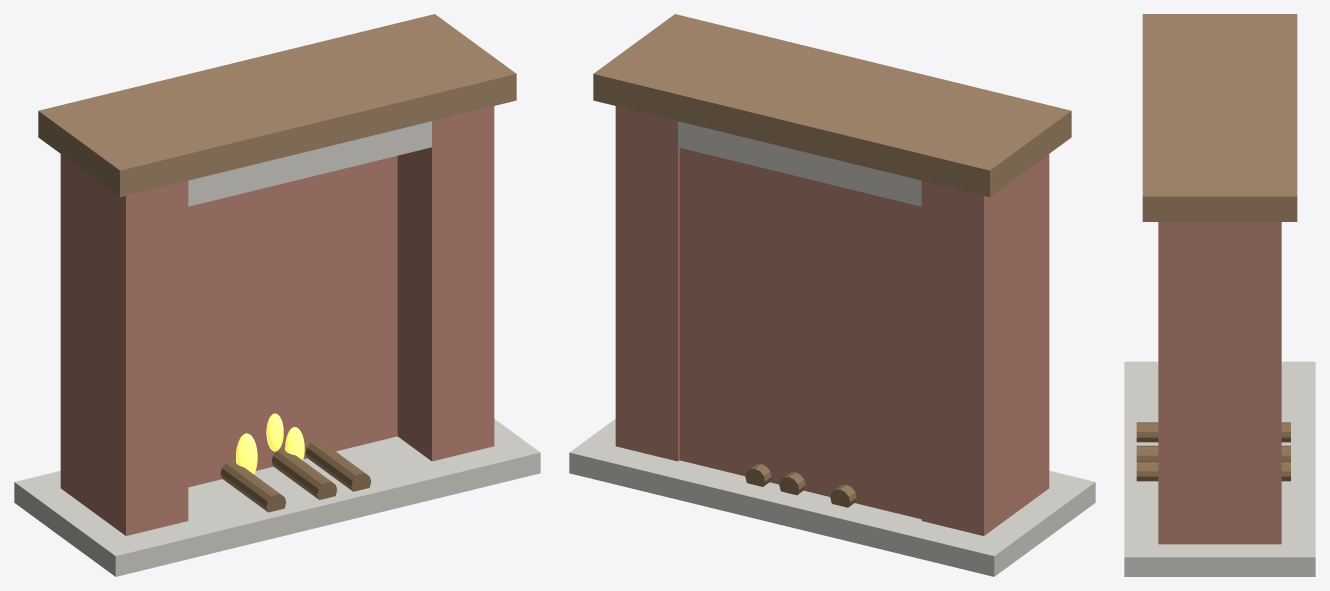
Rendered from fireplace.glb.
3 renders of one model, left to right at view 1: azimuth 30°, elevation 25°; view 2: azimuth 150°, elevation 25°; view 3: azimuth 270°, elevation 25°, orthographic. The views are drawn at different scales.
Parts seen in each view (by area): view 1: Fireplace_BackWall, Fireplace_Mantel, Fireplace_LeftColumn, Fireplace_RightColumn, Fireplace_HearthBase, Fireplace_FireboxTop, Fireplace_Log_2, Fireplace_Log_0, Fireplace_Log_1, Fireplace_Flame_0; view 2: Fireplace_BackWall, Fireplace_Mantel, Fireplace_LeftColumn, Fireplace_RightColumn, Fireplace_HearthBase, Fireplace_FireboxTop; view 3: Fireplace_RightColumn, Fireplace_Mantel, Fireplace_HearthBase, Fireplace_BackWall, Fireplace_Log_0, Fireplace_Log_2, Fireplace_Log_1.
Boxes of the visible parts, x1,y1,x2,y2 form: Fireplace_BackWall: [83, 155, 397, 487]; Fireplace_Mantel: [38, 14, 516, 197]; Fireplace_LeftColumn: [60, 154, 188, 535]; Fireplace_RightColumn: [397, 106, 494, 461]; Fireplace_HearthBase: [14, 419, 540, 576]; Fireplace_FireboxTop: [188, 121, 431, 206]; Fireplace_Log_2: [305, 440, 371, 491]; Fireplace_Log_0: [220, 461, 286, 512]; Fireplace_Log_1: [271, 448, 336, 499]; Fireplace_Flame_0: [236, 433, 257, 474]; Fireplace_BackWall: [679, 148, 921, 519]; Fireplace_Mantel: [593, 14, 1071, 197]; Fireplace_LeftColumn: [921, 154, 1049, 535]; Fireplace_RightColumn: [615, 106, 679, 461]; Fireplace_HearthBase: [569, 419, 1095, 576]; Fireplace_FireboxTop: [678, 121, 921, 206]; Fireplace_RightColumn: [1158, 222, 1281, 544]; Fireplace_Mantel: [1142, 14, 1297, 221]; Fireplace_HearthBase: [1124, 361, 1315, 576]; Fireplace_BackWall: [1223, 223, 1278, 543]; Fireplace_Log_0: [1136, 422, 1290, 442]; Fireplace_Log_2: [1136, 461, 1290, 481]; Fireplace_Log_1: [1136, 445, 1290, 461].
Size of the model in its own units: 1.5 by 1.33 by 0.62.
